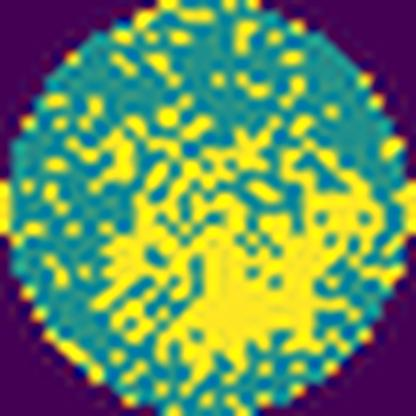Loc: (93, 125, 388, 390), (67, 130, 134, 190)
